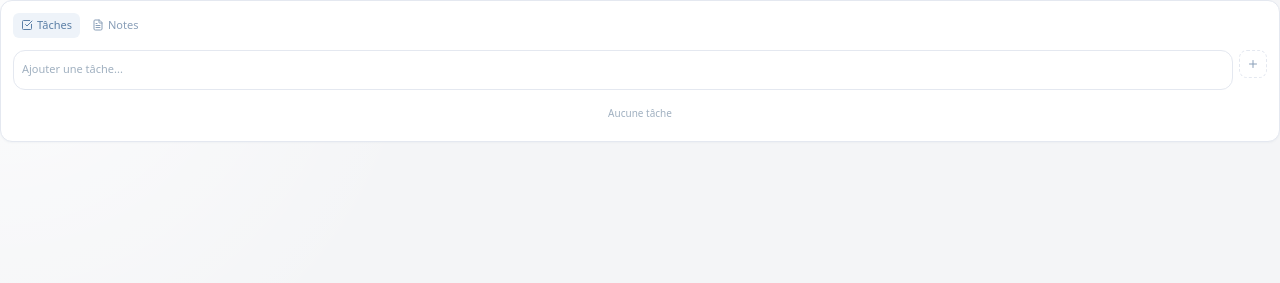
Test case: TasksNotes — Notes tab › renders empty textarea and Enregistrer button on Notes tab
What coordinates should you click on to do the following:
click the button "Notes"
I would click on:
 (115, 25)
Its box is [84, 13, 146, 38].
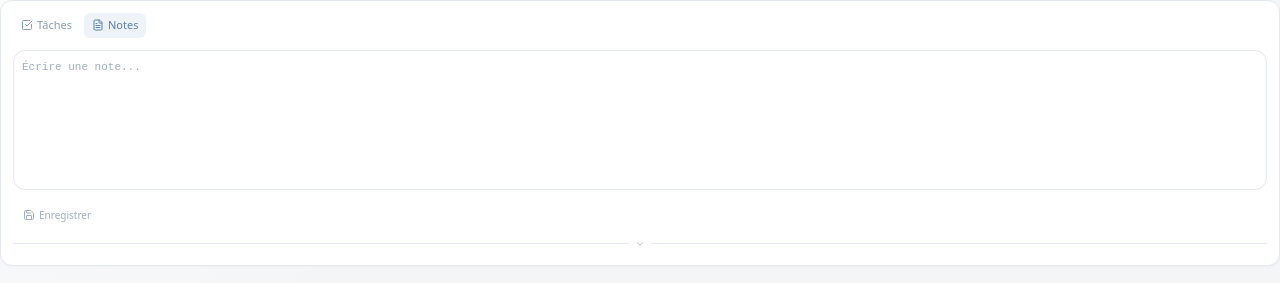
Check: the text box with placeholder "Écrire une note..." is empty, box [13, 50, 1267, 190]
Check: the button "Enregistrer" is shown, box [13, 204, 101, 226]
